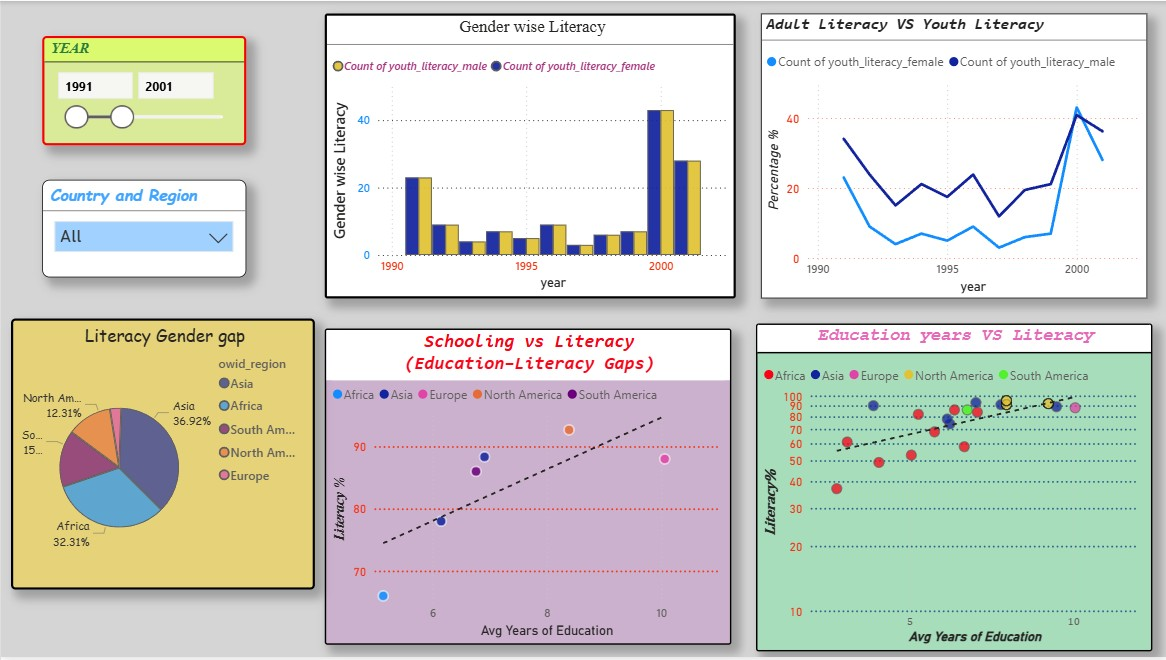

The dashboard page shown, as its layout file describes it:
{"tool":"powerbi","page":{"name":"Page 2","canvas":[1280,720],"ordinal":1},"visuals":[{"type":"slicer","title":"YEAR","fields":{"Values":["year querry.year"]},"box":[45,38.8,223.8,120],"z":0},{"type":"slicer","title":"   Country and Region","fields":{"Values":["Dim_country.owid_region","Dim_country.country"]},"box":[45,196.2,223.8,107.5],"z":1000},{"type":"lineClusteredColumnComboChart","title":"Gender wise Literacy","fields":{"Category":["year querry.year"],"Y":["CountNonNull(df_literacy.youth_literacy_male)","CountNonNull(df_literacy.youth_literacy_female)"]},"box":[355,13.8,451.2,312.5],"z":2000},{"type":"pieChart","title":"Literacy Gender gap","fields":{"Category":["Dim_country.owid_region"],"Y":["CountNonNull(df_literacy.Literacy_Gender_Gap)"]},"box":[11,348.5,333.4,297.8],"z":3000},{"type":"lineChart","title":"Adult Literacy VS  Youth Literacy","fields":{"Category":["year querry.year"],"Y":["CountNonNull(df_literacy.youth_literacy_female)"],"Y2":["CountNonNull(df_literacy.youth_literacy_male)"]},"box":[833.8,13.8,423.8,312.5],"z":4000},{"type":"scatterChart","title":"Schooling vs Literacy (Education–Literacy Gaps)    ","fields":{"Category":["year querry.year"],"X":["df_gdp_schooling.Avg Years of Education"],"Y":["df_gdp_schooling.literacy_rate"],"Series":["Dim_country.owid_region"]},"box":[355,360,446.2,347.5],"z":5000},{"type":"scatterChart","title":"Education years VS  Literacy","fields":{"X":["df_gdp_schooling.Avg Years of Education"],"Y":["df_gdp_schooling.literacy_rate"],"Series":["Dim_country.owid_region"]},"box":[828.8,353.8,435,360],"z":6000}]}

Visuals, with their boxes in screenshot pixels (x1, y1, x2, y2), scaled from the page's 1280x720 canvas onto the 1166x660 screenshot:
"YEAR" slicer: l=41, t=36, r=245, b=146
"   Country and Region" slicer: l=41, t=180, r=245, b=278
"Gender wise Literacy" lineClusteredColumnComboChart: l=323, t=13, r=734, b=299
"Literacy Gender gap" pieChart: l=10, t=319, r=314, b=592
"Adult Literacy VS  Youth Literacy" lineChart: l=760, t=13, r=1146, b=299
"Schooling vs Literacy (Education–Literacy Gaps)    " scatterChart: l=323, t=330, r=730, b=649
"Education years VS  Literacy" scatterChart: l=755, t=324, r=1151, b=654
